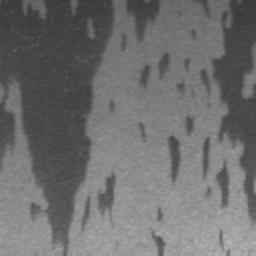Red iron sheet: (0, 0, 160, 256), (140, 0, 256, 223), (151, 234, 164, 256), (138, 122, 146, 140), (218, 229, 224, 251), (157, 209, 164, 220), (189, 29, 197, 38)
